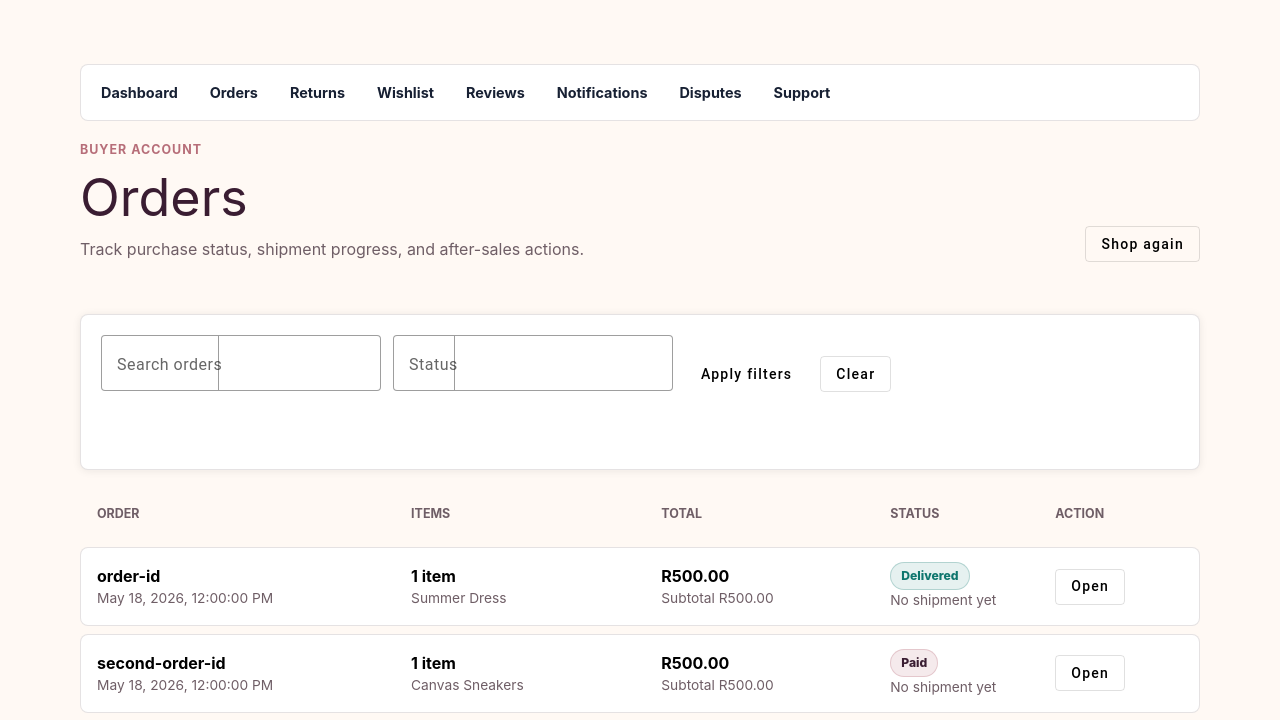
Test: BuyerOrdersPageComponent › filters buyer orders by status and search text
This screenshot has width=1280, height=720.
Type "Sneakers" into the field named "search".
click(241, 363); type("Sneakers")  # box [117,351,365,375]
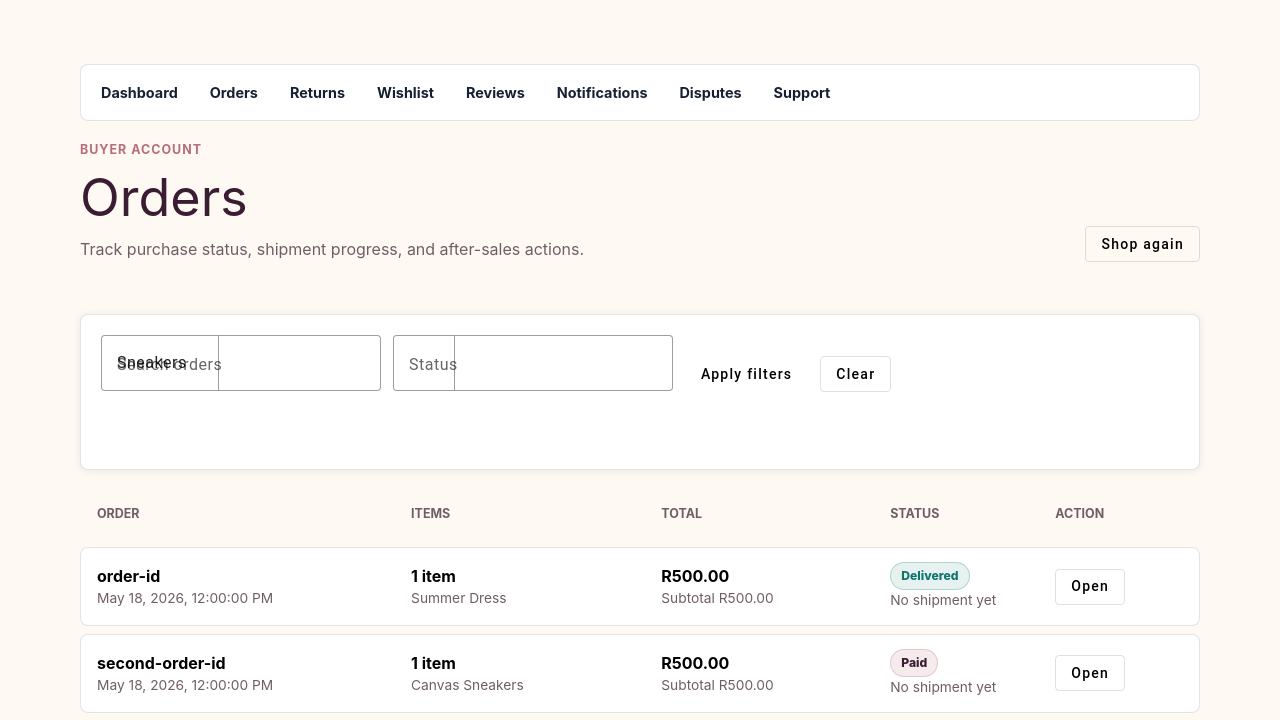
Type "Paid" into the field named "status".
click(533, 363); type("Paid")  # box [409,351,657,375]
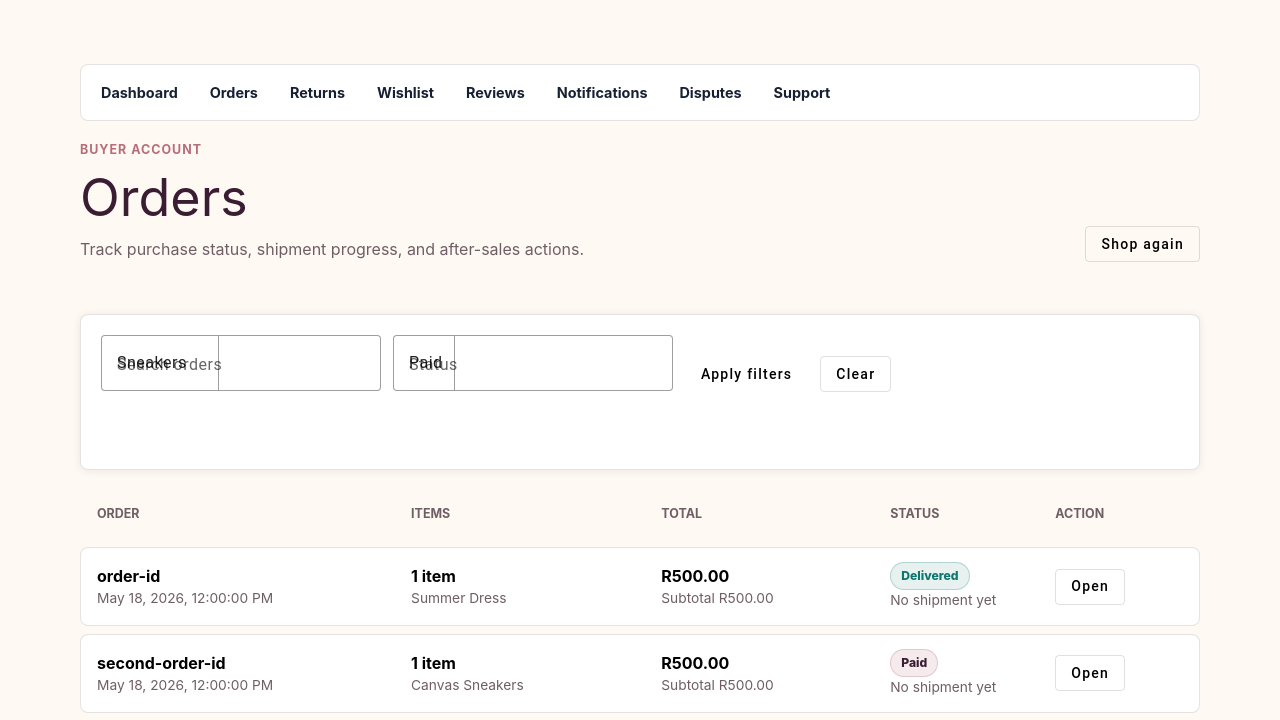
Submit the form, box [80,314,1200,470]
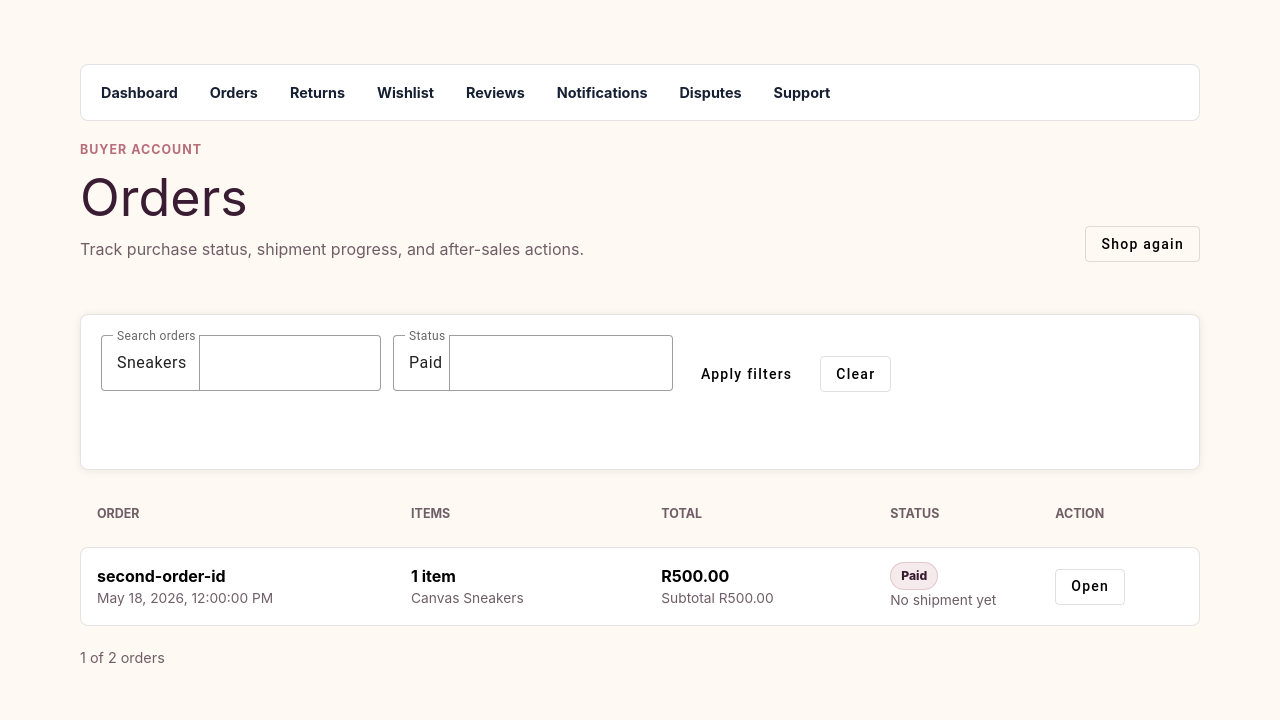
Expected: the text "Canvas Sneakers" is shown, [411,590,524,606]
Expected: the text "Summer Dress" is gone
